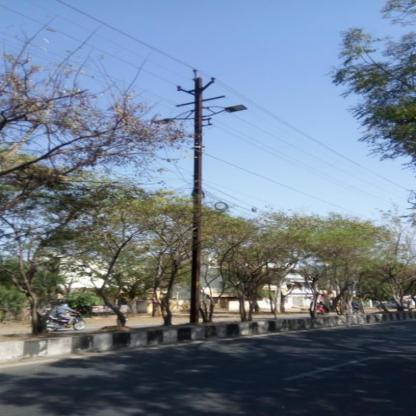Electrical Pole: (148, 68, 253, 325)
